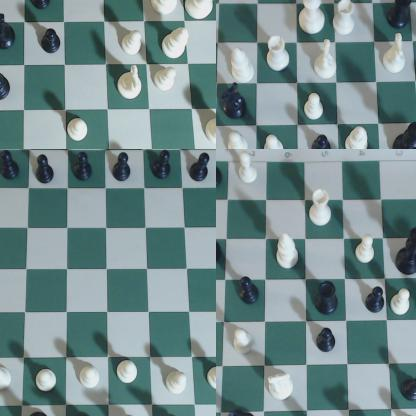black-bishop: (1, 70, 15, 104), (217, 150, 226, 192)
black-king: (396, 224, 416, 278), (397, 121, 416, 149)
black-knight: (221, 82, 248, 121), (1, 16, 20, 54), (21, 407, 54, 416), (217, 224, 223, 264)
black-pawn: (36, 25, 67, 62), (359, 283, 386, 320), (315, 323, 340, 359), (189, 150, 213, 187), (238, 270, 261, 307), (34, 155, 59, 188), (152, 150, 176, 184), (75, 151, 98, 184), (112, 152, 133, 187), (1, 150, 25, 180), (397, 376, 416, 406), (311, 135, 334, 149), (31, 1, 52, 14)
black-queen: (227, 405, 263, 416)
black-rook: (315, 278, 341, 318), (390, 1, 412, 35)
white-bishop: (273, 233, 304, 275), (160, 19, 193, 58), (226, 45, 256, 86), (342, 124, 372, 149)
white-king: (296, 1, 331, 38), (188, 1, 216, 20)
white-knight: (381, 33, 409, 77), (117, 66, 147, 105), (315, 40, 337, 84), (267, 369, 294, 400)
white-pawn: (153, 359, 190, 402), (112, 348, 143, 390), (64, 111, 99, 148), (74, 359, 105, 394), (31, 368, 66, 396), (302, 90, 329, 124), (231, 327, 258, 358), (388, 288, 410, 323), (354, 232, 377, 265), (200, 357, 216, 400), (1, 360, 20, 396), (224, 131, 254, 149), (266, 131, 292, 149)
white-queen: (153, 1, 188, 19)
white-rook: (264, 32, 292, 75), (309, 190, 337, 230), (332, 2, 359, 38), (208, 108, 216, 149)
